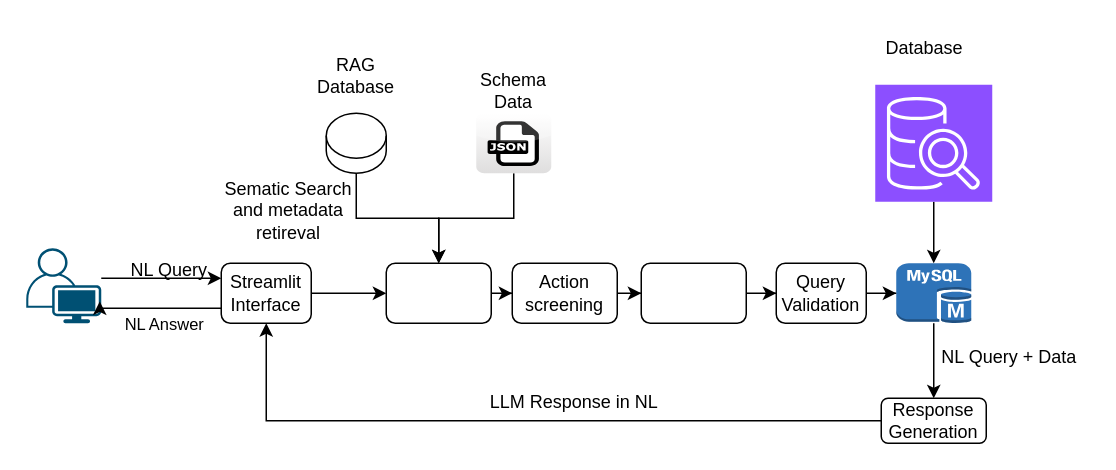
Some shapes in this 1116 by 470 pixel diagram are drawn without their labels. Here are the shapes that lost their labels. From the top down, the centre of each, then its label:
At point (438, 292): "Schema Information".
At point (693, 292): "SQL Query Generator".
